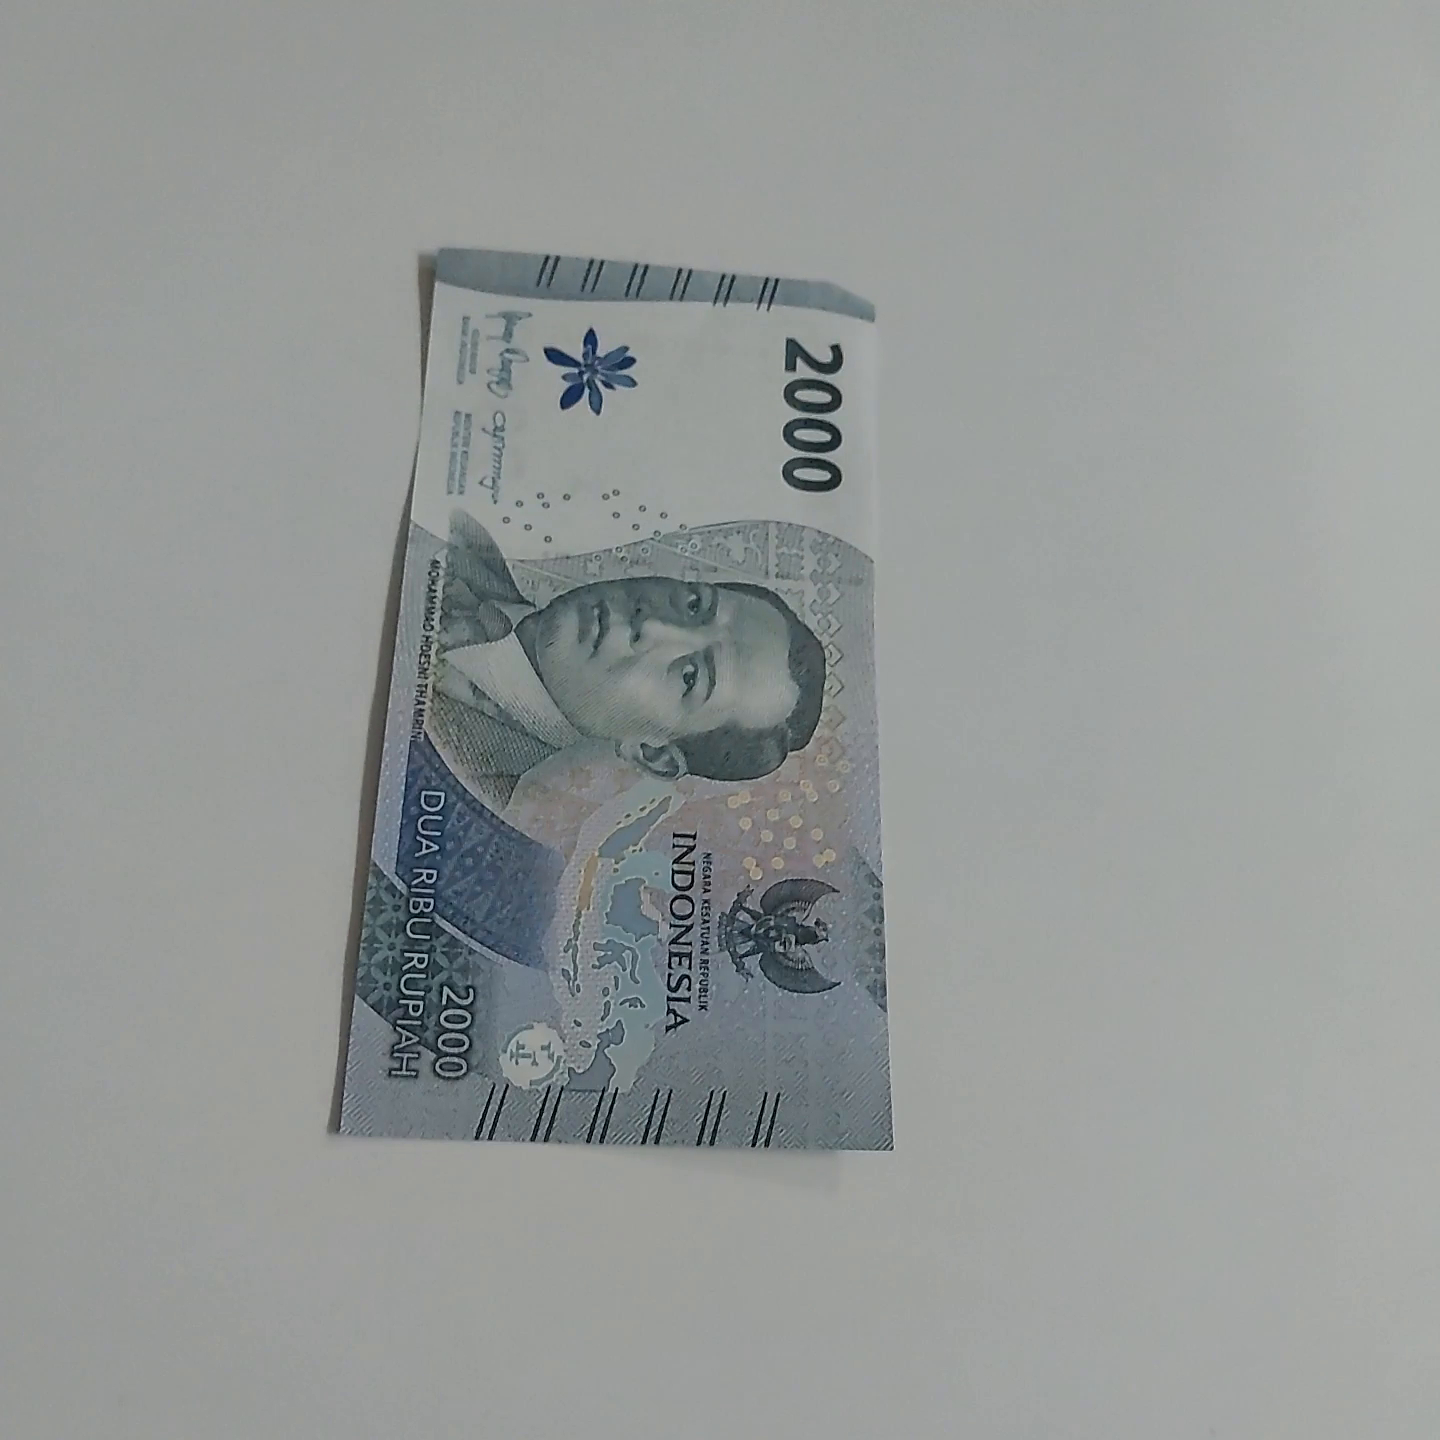2k: (361, 200, 934, 1195)
